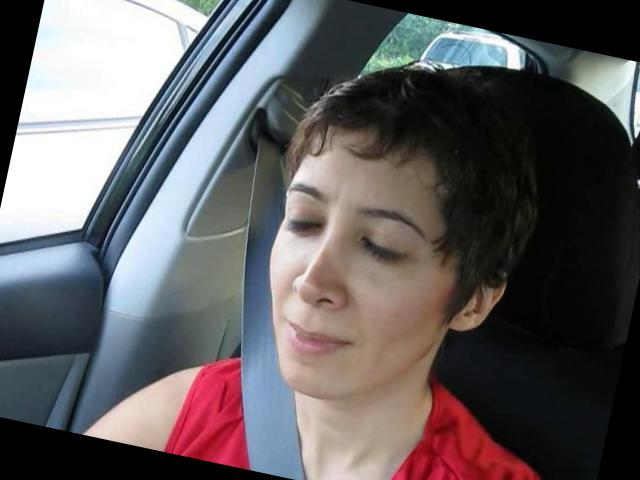eye_closed: (348, 224, 422, 275), (277, 204, 328, 248)
face: (233, 158, 454, 420)
